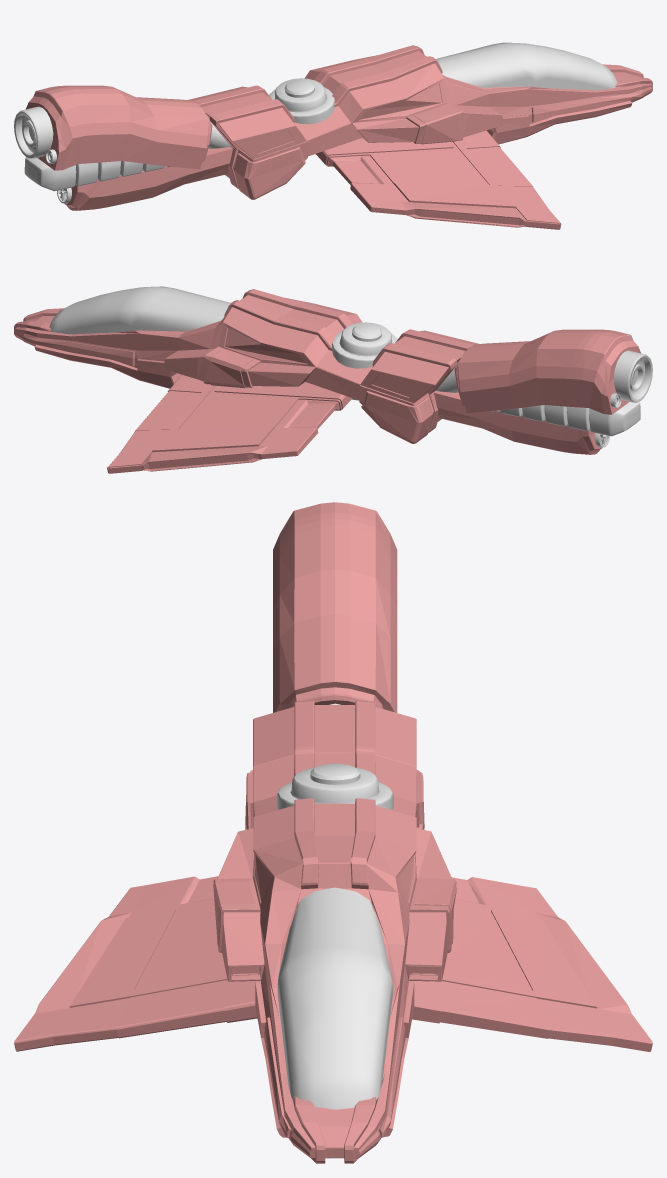
Rendered from SM_New_Ship_Exterior.fbx.
3 renders of one model, top to bottom at view 1: azimuth 30°, elevation 25°; view 2: azimuth 150°, elevation 25°; view 3: azimuth 270°, elevation 25°, orthographic. The views are drawn at different scales.
Parts seen in each view (by area): view 1: top_Low, jet3_Low, window_Low; view 2: top_Low, jet3_Low, window_Low; view 3: top_Low, window_Low, jet3_Low.
Part boxes in pixels (x1,y1,x2,y2): top_Low: (25, 45, 652, 229); jet3_Low: (14, 78, 334, 203); window_Low: (435, 42, 617, 90); top_Low: (14, 289, 641, 473); jet3_Low: (331, 322, 652, 447); window_Low: (49, 286, 230, 334); top_Low: (14, 502, 652, 1163); window_Low: (277, 887, 392, 1109); jet3_Low: (277, 703, 393, 809).
Size of the model in its own units: 3704 by 910 by 2143.
